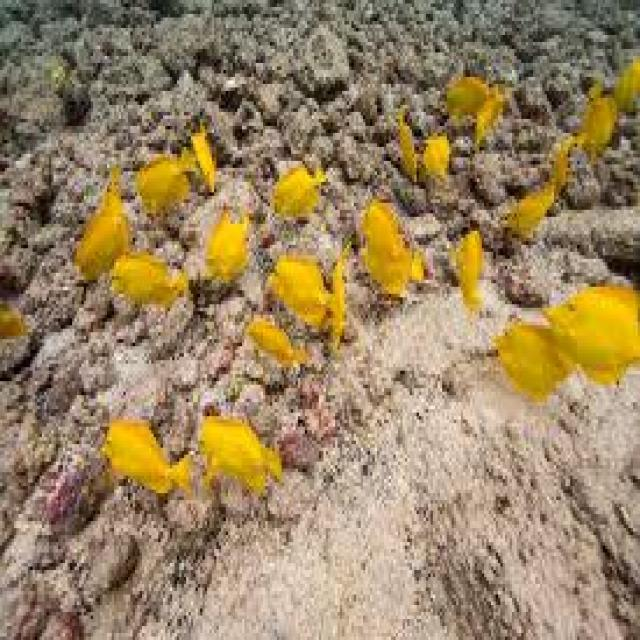YellowTang: (549, 270, 640, 387), (98, 394, 177, 516), (200, 397, 279, 510), (352, 182, 422, 299), (69, 171, 131, 292), (496, 316, 565, 400), (493, 172, 566, 251), (242, 300, 306, 381), (197, 207, 257, 292), (263, 156, 326, 229), (180, 113, 226, 207), (450, 225, 487, 315), (130, 157, 190, 212), (440, 68, 494, 127), (386, 105, 419, 179), (426, 129, 452, 187)
